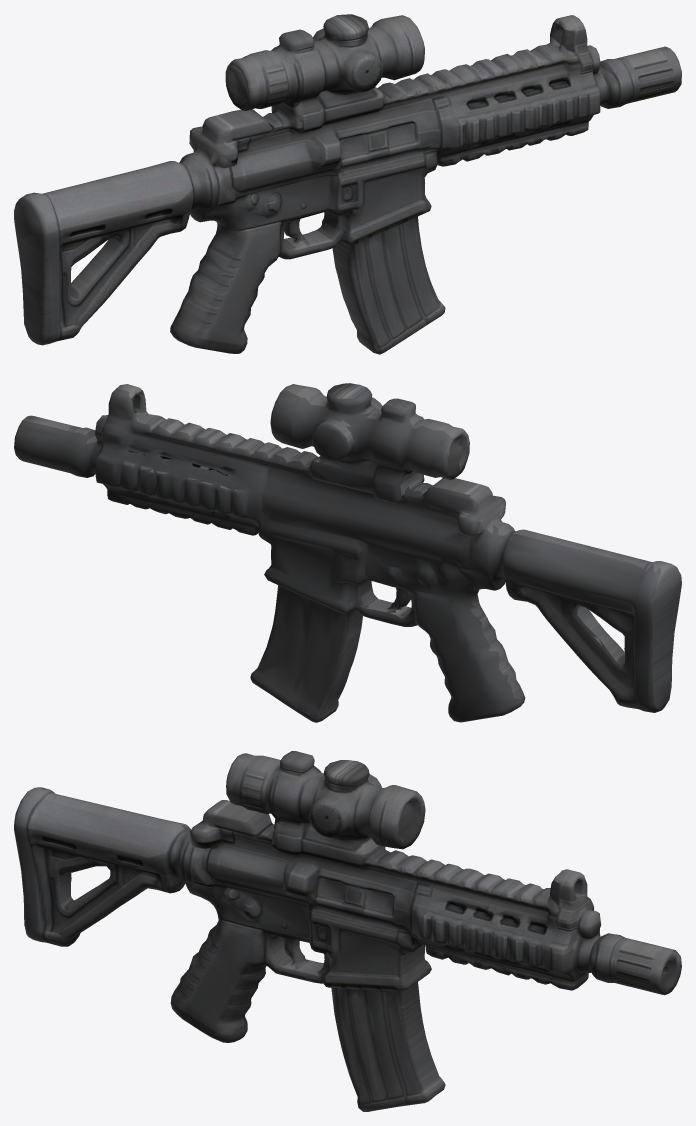
The model's file is rifle.glb.
3 views of the same model, one above another, from view 1: azimuth 30°, elevation 25°; view 2: azimuth 150°, elevation 25°; view 3: azimuth 330°, elevation 25° (orthographic).
Visible parts, largest first — view 1: rifle; view 2: rifle; view 3: rifle.
Boxes of the visible parts, x1=… form: rifle: x1=14, y1=14, x2=681, y2=354; rifle: x1=14, y1=383, x2=681, y2=722; rifle: x1=14, y1=751, x2=681, y2=1111.
Bounding box in the file's own units: 0.95 × 0.4691 × 0.1072.
Materials: 1 (1 with a texture image).
